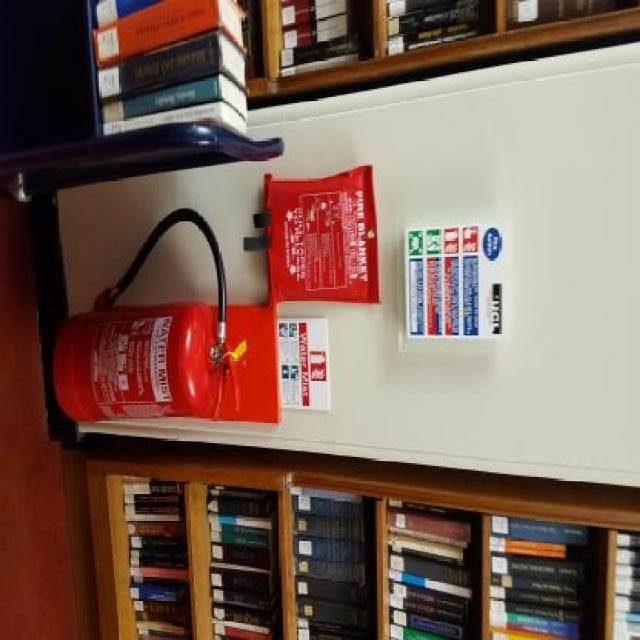fire extinguisher: (55, 207, 243, 433)
